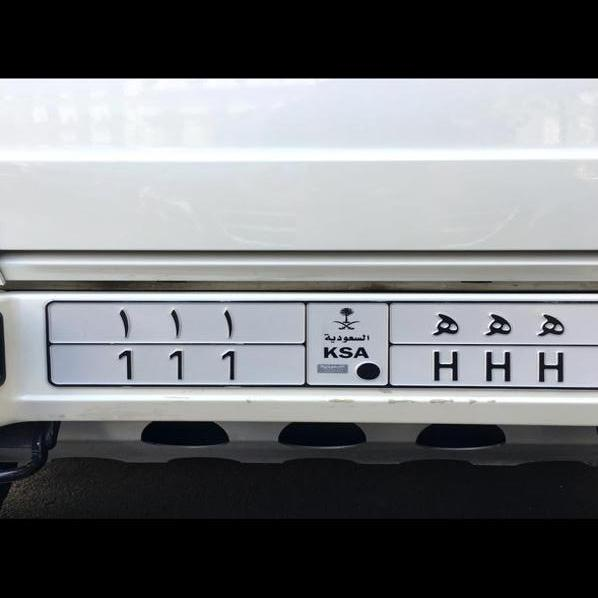numberplate: (69, 301, 592, 388)
